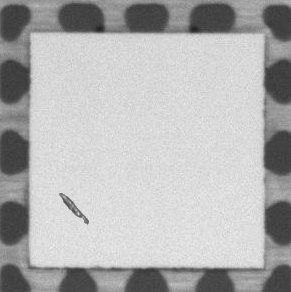DIE_INK: (58, 192, 90, 227)
